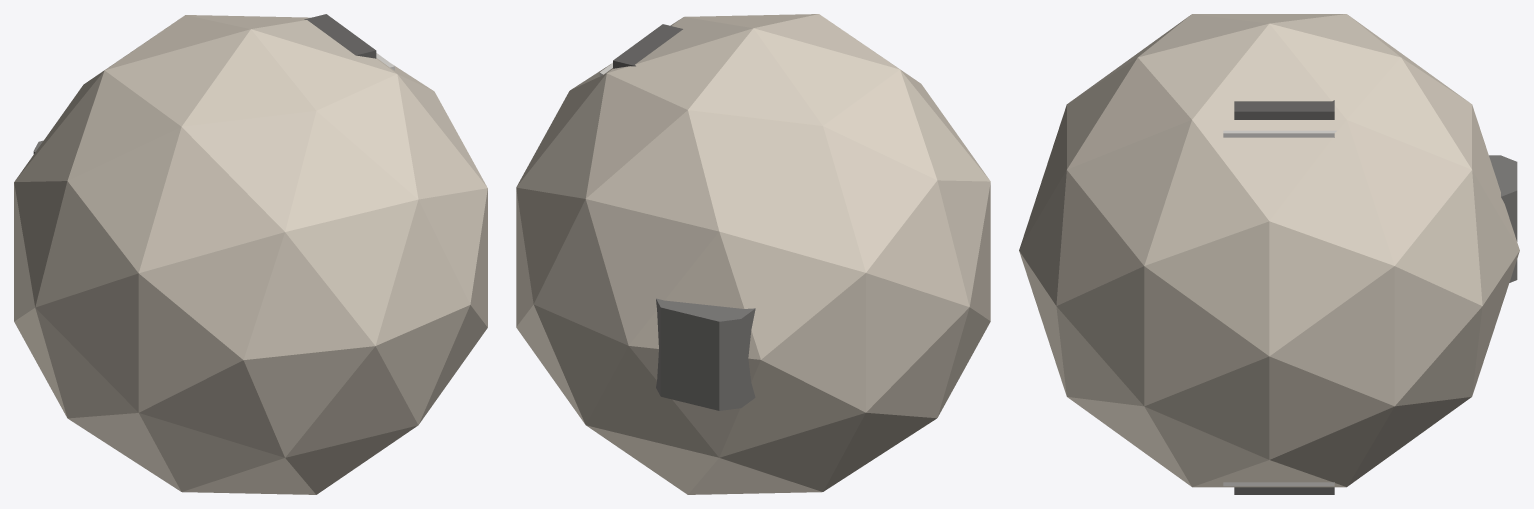
File: _head-head.glb
3 views of the same model, side by side, from view 1: azimuth 30°, elevation 25°; view 2: azimuth 150°, elevation 25°; view 3: azimuth 270°, elevation 25° (orthographic).
Bounding box in the file's own units: 0.18 × 0.18 × 0.18.
